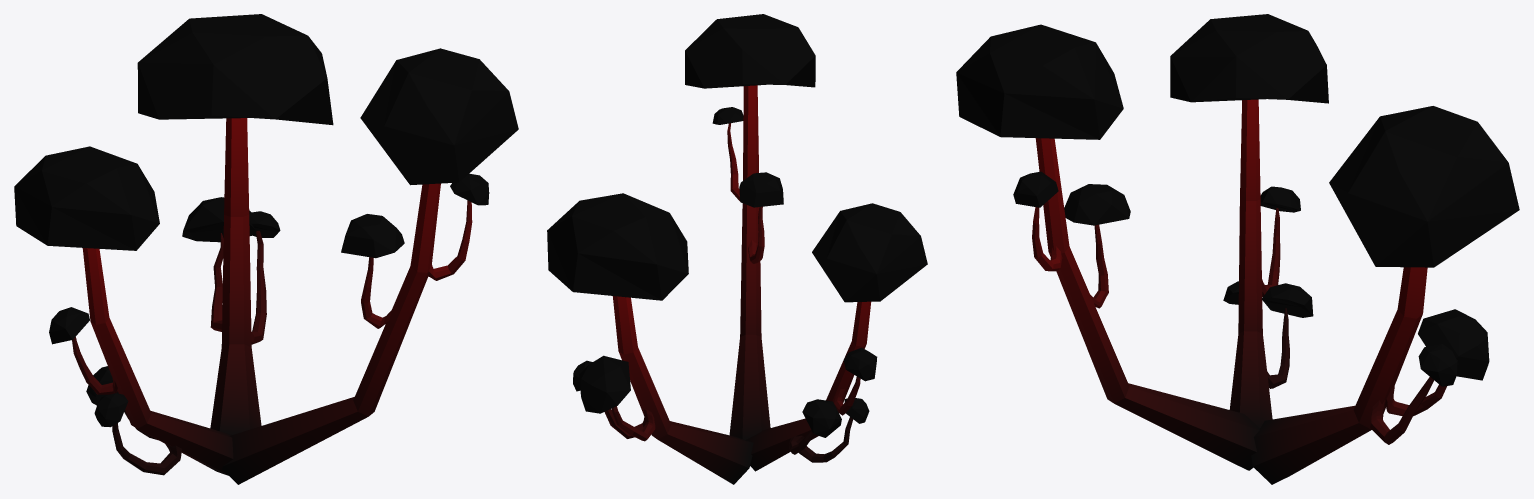
The model's file is FungiBolete03.fbx.
The picture shows the model from 3 angles, left to right: view 1: azimuth 30°, elevation 25°; view 2: azimuth 150°, elevation 25°; view 3: azimuth 270°, elevation 25°; orthographic projection. The views are drawn at different scales.
Parts seen in each view (by area): view 1: FungiBolete03; view 2: FungiBolete03; view 3: FungiBolete03.
Boxes of the visible parts, x1,y1,x2,y2 form: FungiBolete03: [14, 14, 518, 484]; FungiBolete03: [547, 14, 927, 484]; FungiBolete03: [956, 14, 1519, 484].
Bounding box in the file's own units: 31.76 × 37.86 × 39.69.
